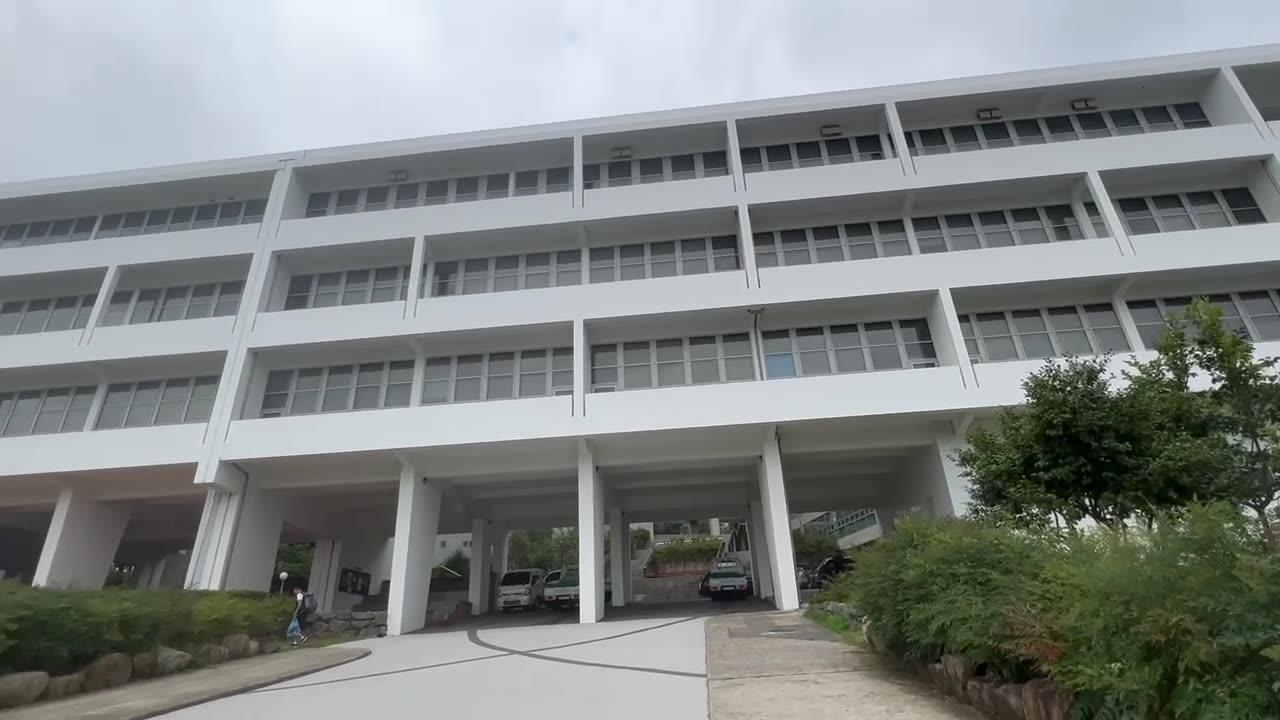building: (42, 42, 978, 448)
